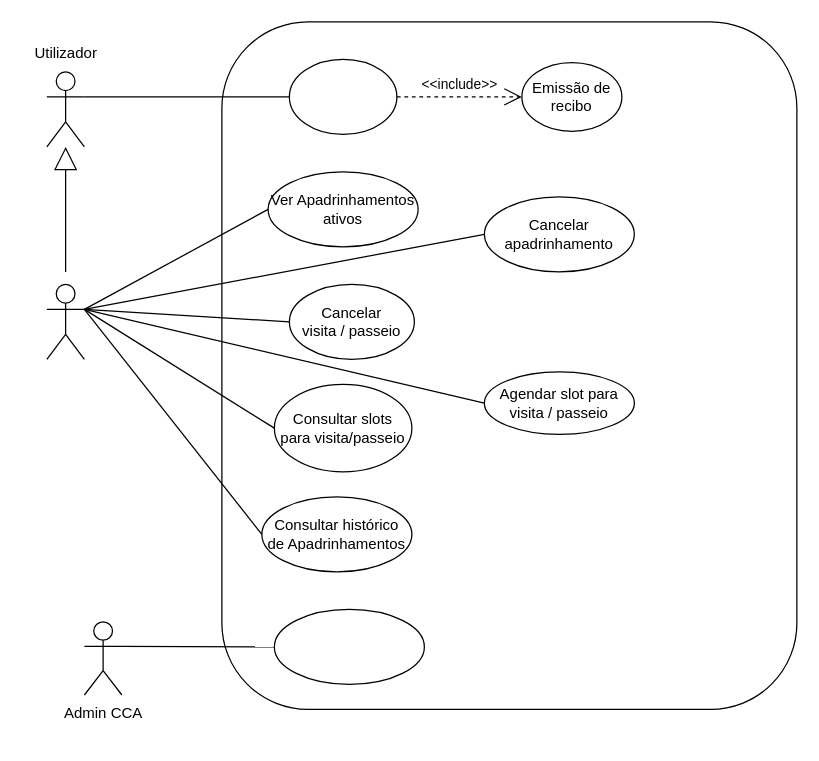
The diagram is 819 pixels wide and 761 high, and some of its shapes have lost their labels. Here are the shapes that lost their labels. From the top down, the centre of each, then its label:
At point 342,96: "Apadrinhar animal".
At point 65,321: "Padrinho".
At point 348,646: "Consultar Apadrinhamentos".
